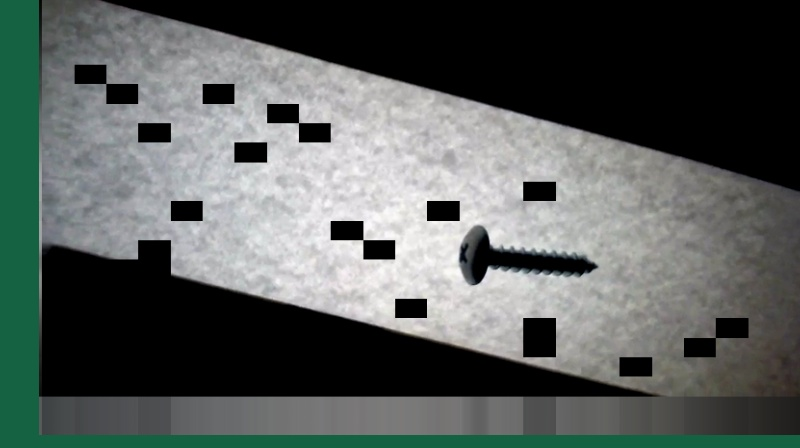S003: (454, 222, 601, 286)
